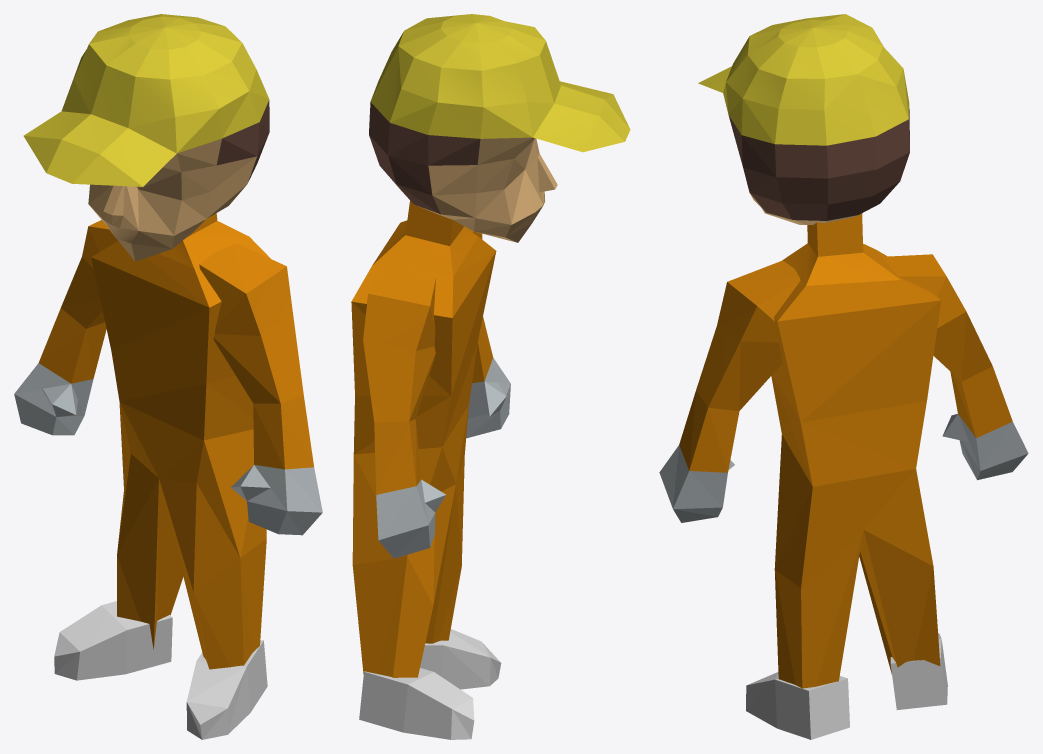
3 views of the same model, side by side, from view 1: azimuth 30°, elevation 25°; view 2: azimuth 150°, elevation 25°; view 3: azimuth 270°, elevation 25° (orthographic). The views are drawn at different scales.
Visible parts, largest first — view 1: node_MeshObject428157952-PolyPaper13; view 2: node_MeshObject428157952-PolyPaper13; view 3: node_MeshObject428157952-PolyPaper13.
Part boxes in pixels (x1,y1,x2,y2): node_MeshObject428157952-PolyPaper13: (14, 14, 322, 739); node_MeshObject428157952-PolyPaper13: (351, 14, 630, 739); node_MeshObject428157952-PolyPaper13: (659, 14, 1028, 739).
Size of the model in its own units: 0.256 by 0.7142 by 0.3554.
